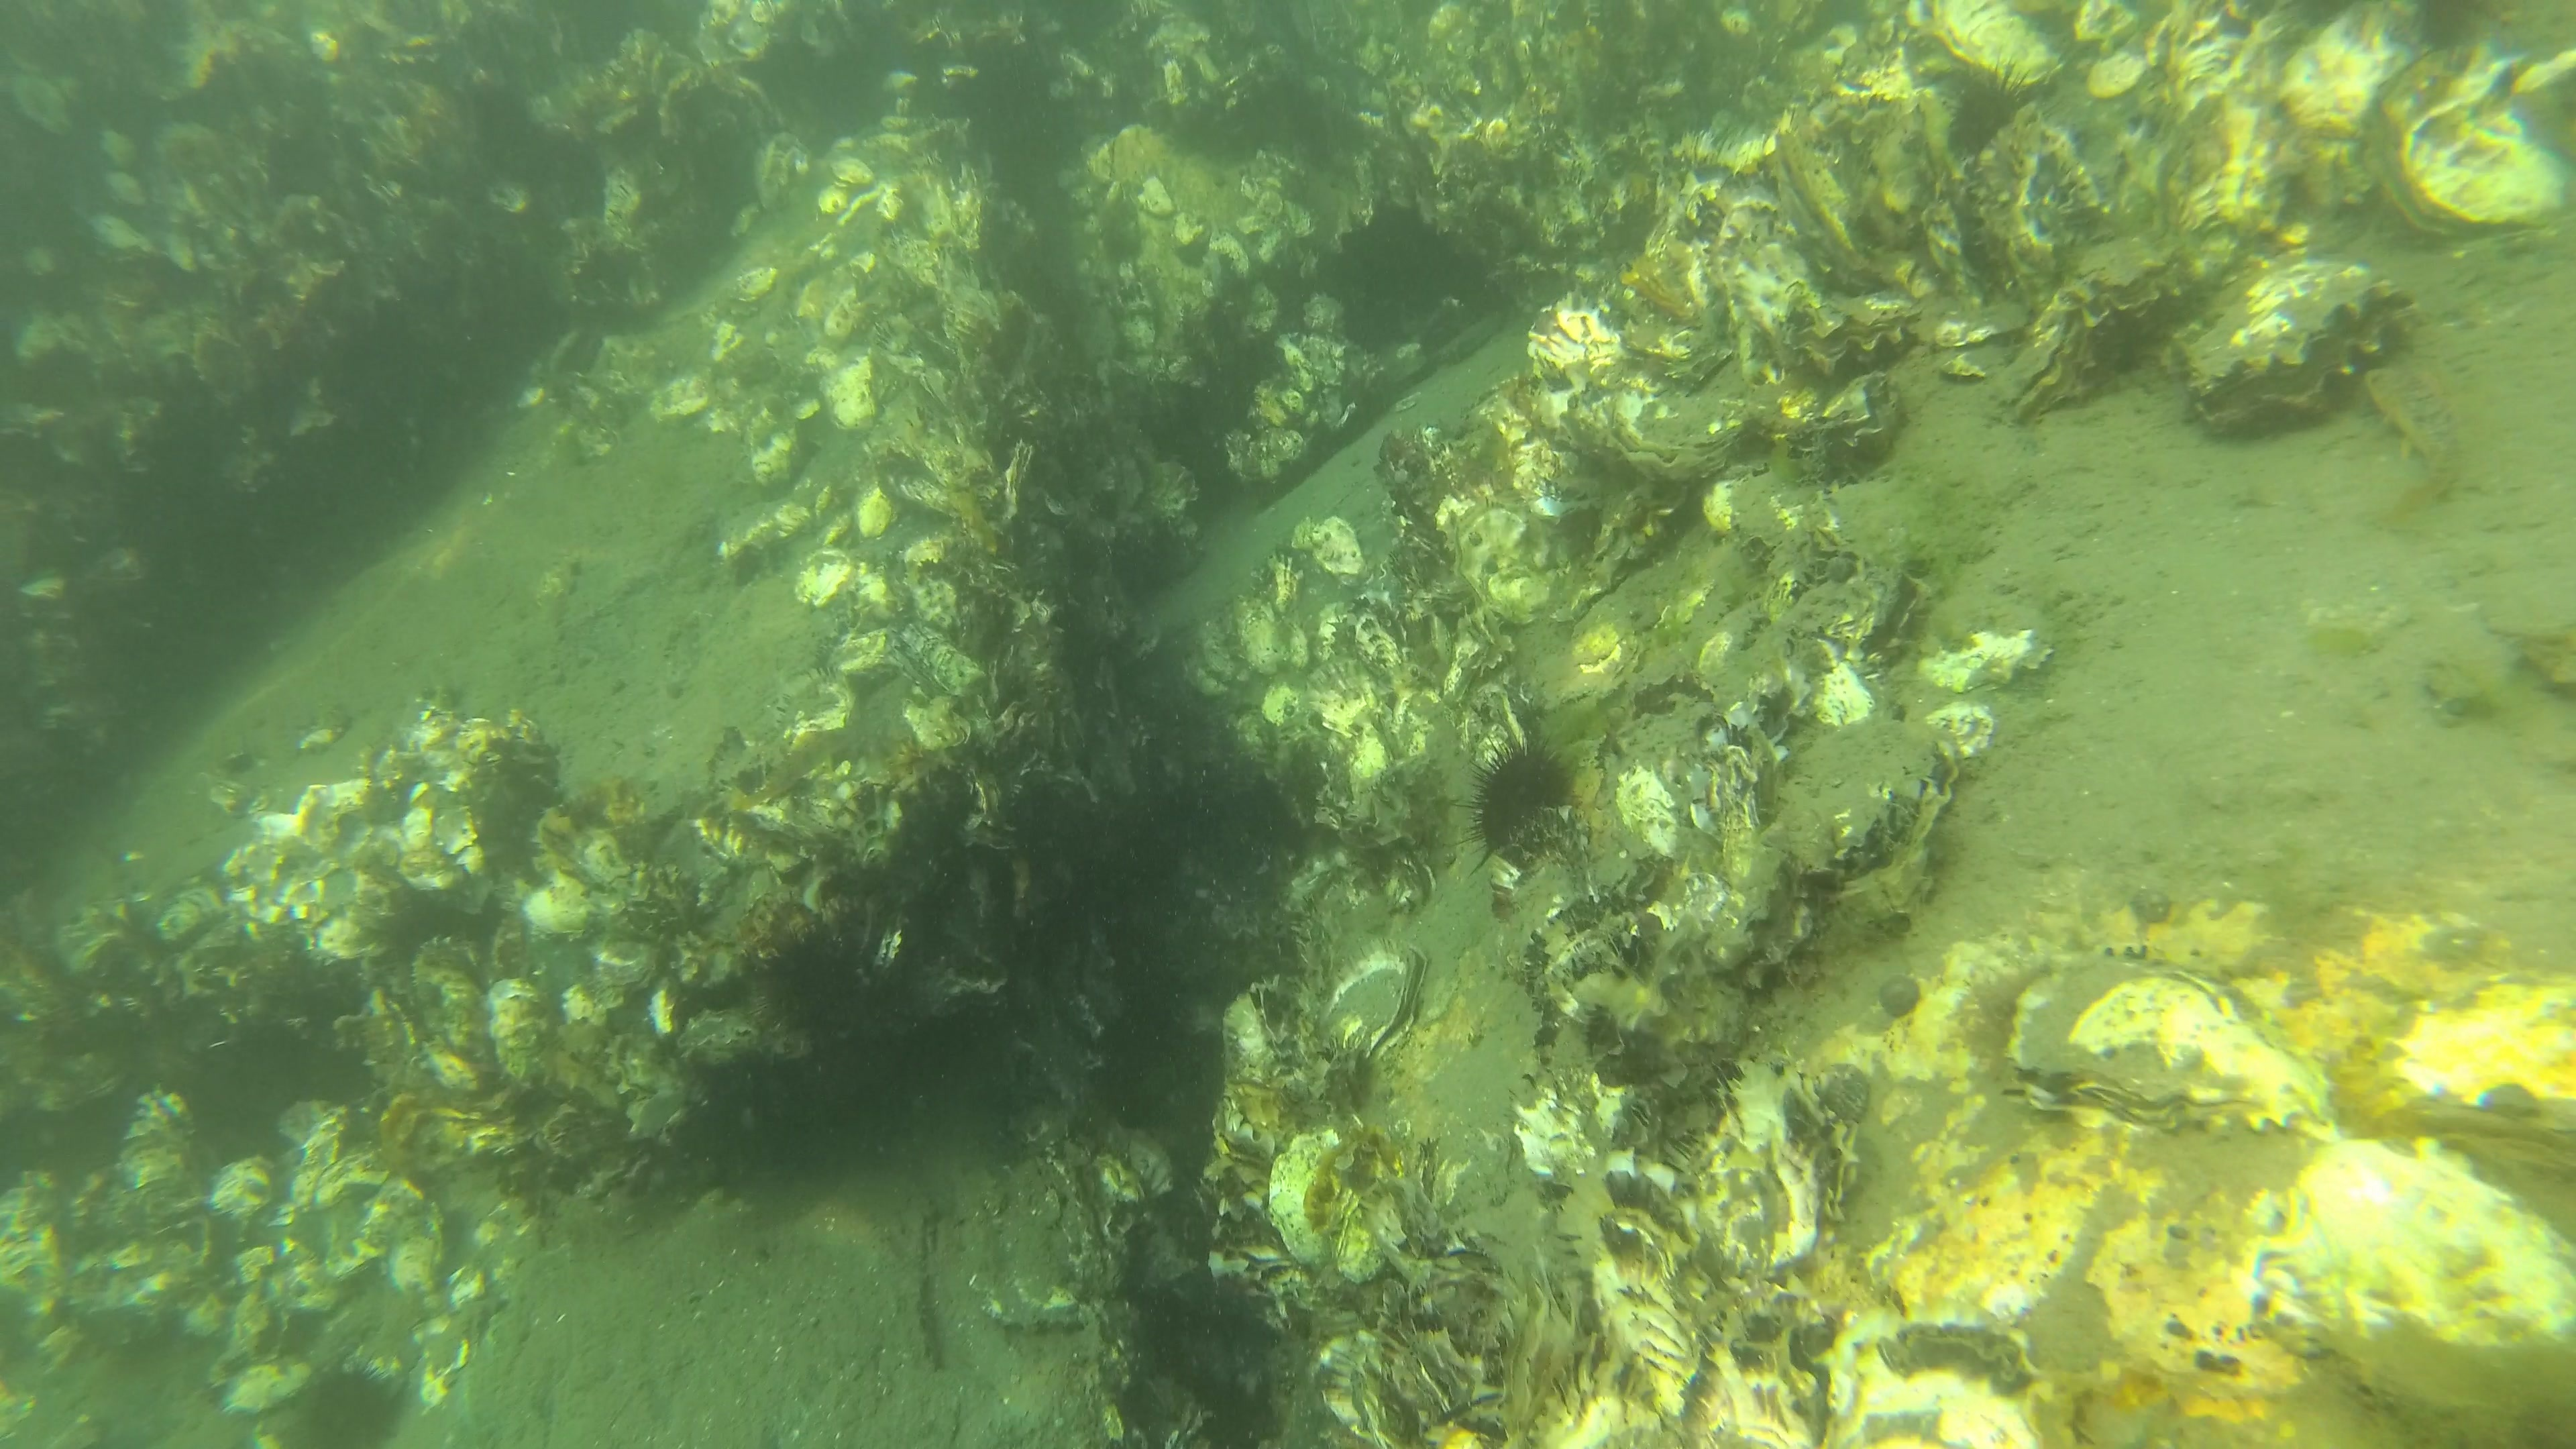echinus: (1460, 727, 1573, 878), (748, 922, 862, 1033), (294, 1352, 409, 1449)
